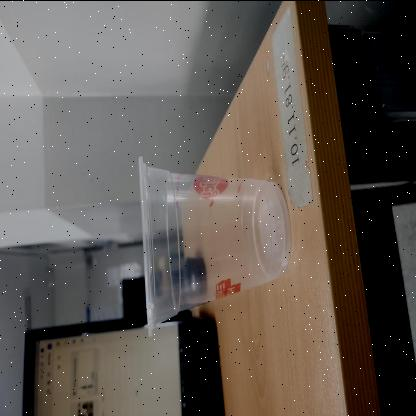Others: (138, 154, 290, 336)
